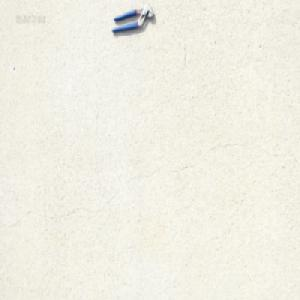Pliers: (110, 5, 154, 32)
